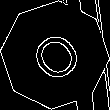O_SE: (22, 22, 88, 88)
